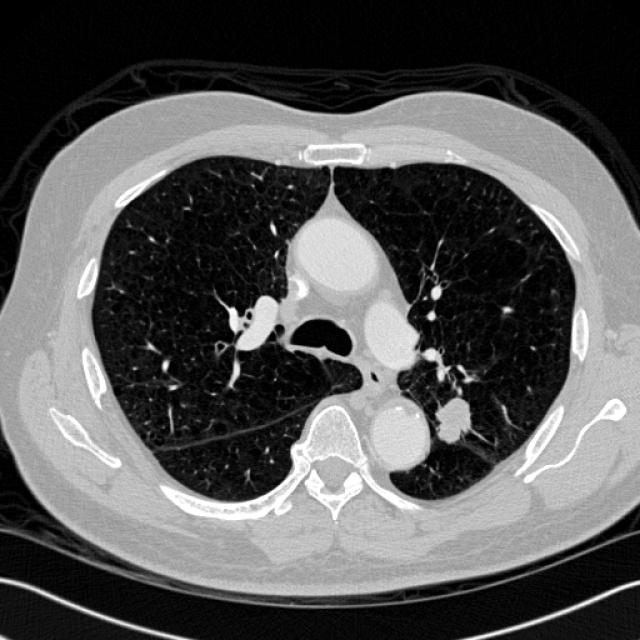nodule: (414, 377, 491, 455)
